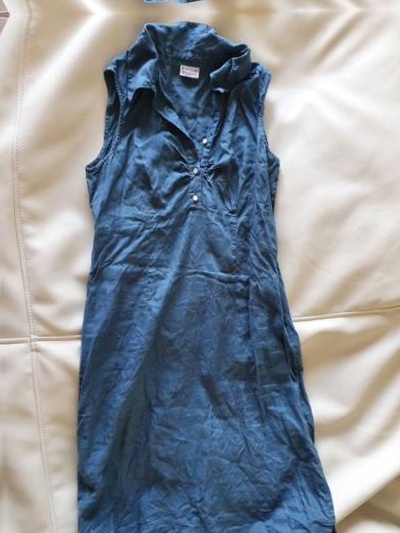Dress: (59, 29, 376, 533)
